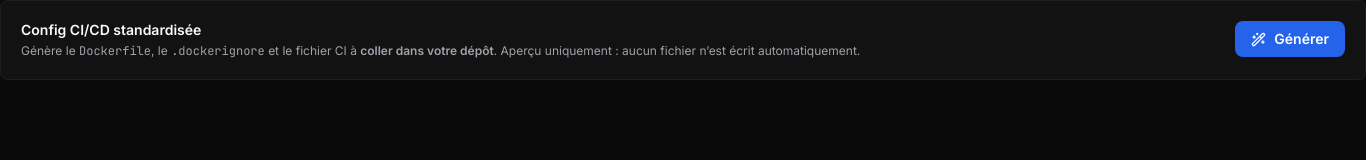
Test: ServiceCiGenerator › shows an error when generation fails
Click the button "Générer": (1290, 39) [1235,21,1345,57]
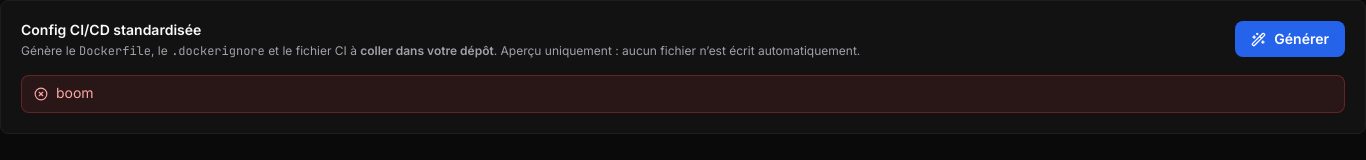
Expected: the text "boom" is shown, [21,75,1345,113]
